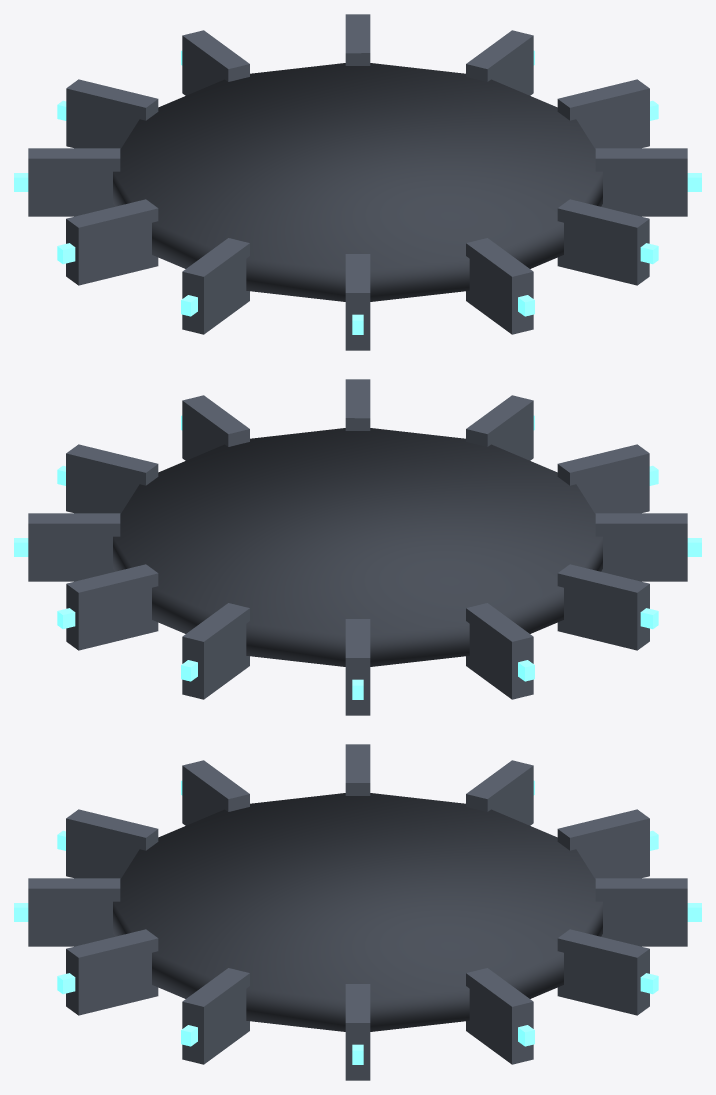
File: prop_spire_collar.glb
3 views of the same model, one above another, from view 1: azimuth 30°, elevation 25°; view 2: azimuth 150°, elevation 25°; view 3: azimuth 270°, elevation 25° (orthographic).
Parts seen in each view (by area): view 1: prop_spire_collar; view 2: prop_spire_collar; view 3: prop_spire_collar.
Boxes of the visible parts, left/top/right/bottom form: prop_spire_collar: left=14, top=14, right=701, bottom=350; prop_spire_collar: left=14, top=379, right=701, bottom=715; prop_spire_collar: left=14, top=744, right=701, bottom=1080.
Bounding box in the file's own units: 9.7 × 0.8997 × 9.7.
